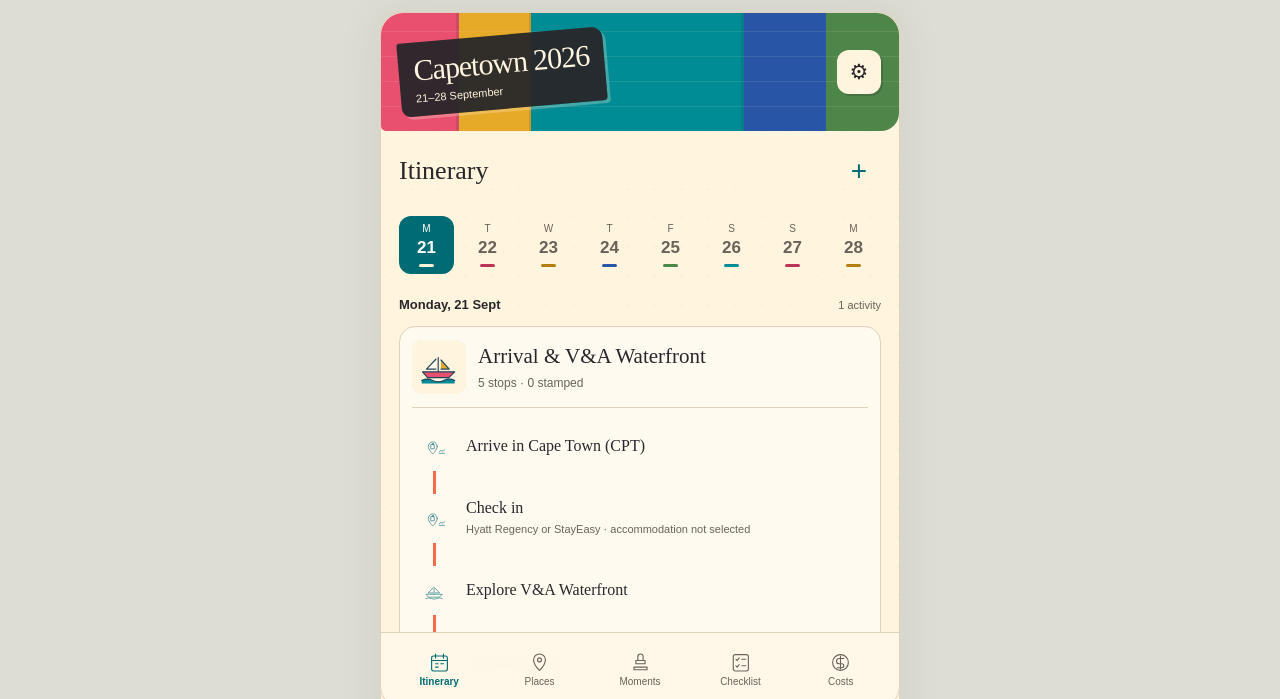
it: whole-app navigation and settings › opens settings with only exchange-rate and backup cards
This screenshot has width=1280, height=699.
Expected: the heading "Capetown 2026" is shown, [412,40,590,86]
Click the button named "Open settings".
click(859, 72)  # box [837,50,881,94]
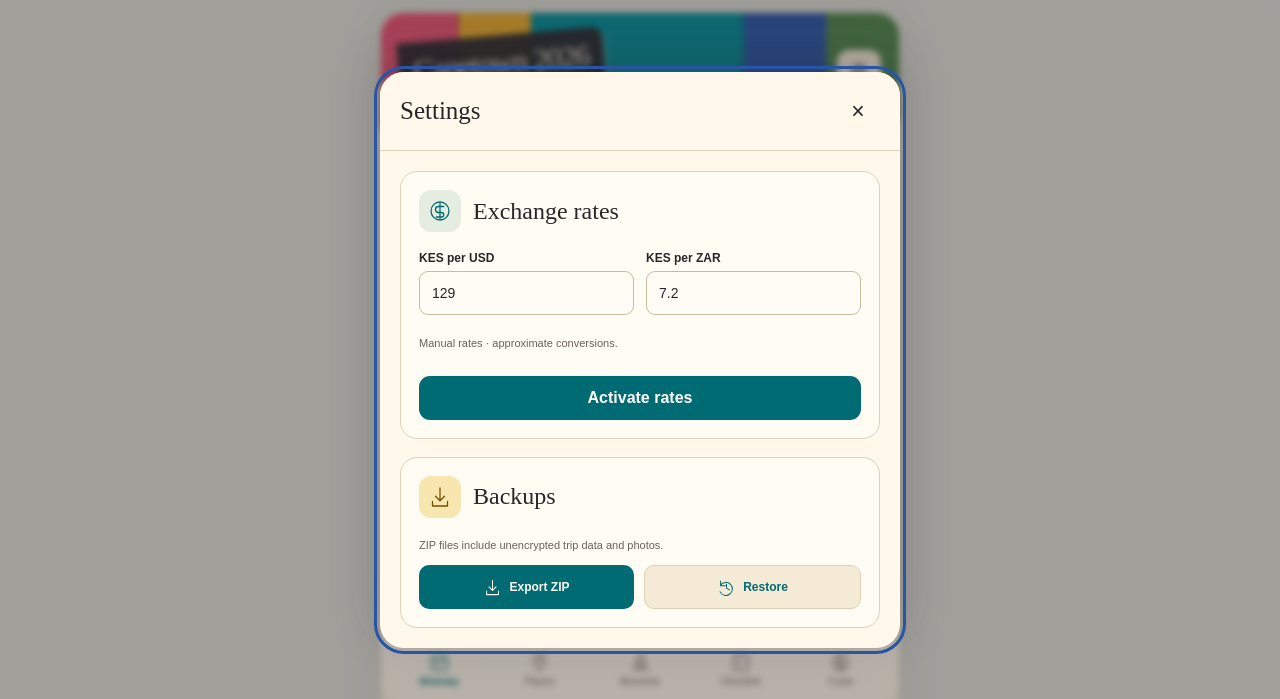
Now the heading "Exchange rates" is shown, box [473,198,619,224]
Now the heading "Backups" is shown, box [473,483,556,510]
Now the button "Export ZIP" is shown, box [419,565,634,609]
